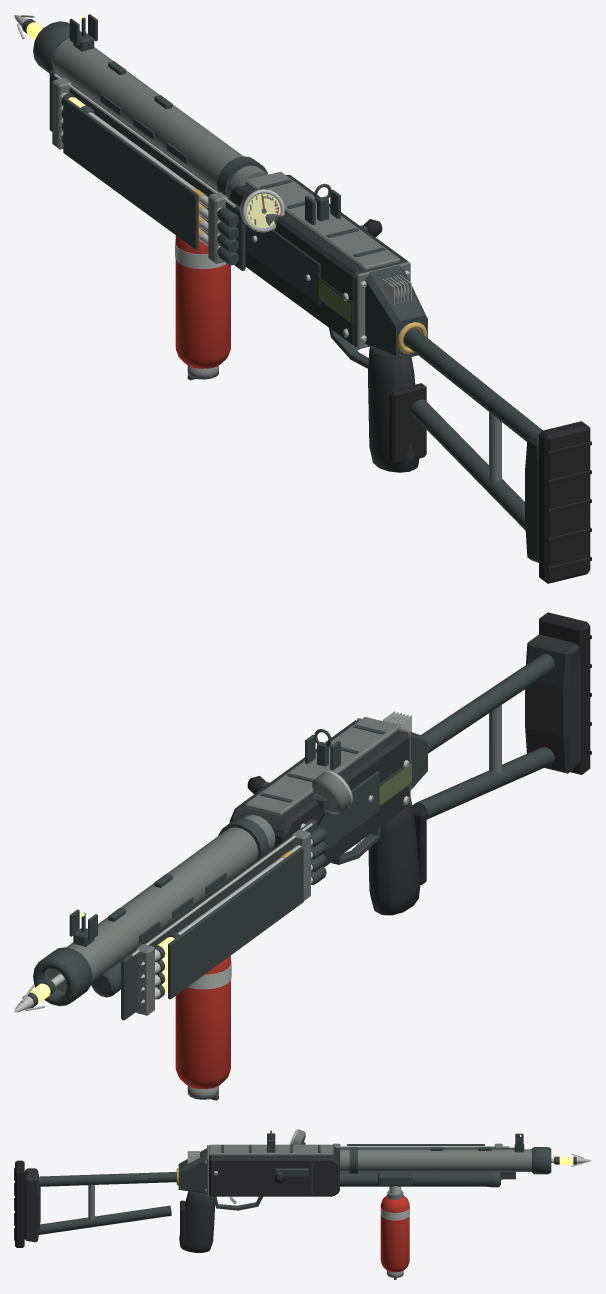
The model's file is vm_arpon.glb.
The picture shows the model from 3 angles, top to bottom: view 1: azimuth 30°, elevation 25°; view 2: azimuth 150°, elevation 25°; view 3: azimuth 270°, elevation 25°; orthographic projection. The views are drawn at different scales.
Visible parts, largest first — view 1: arpon__wk_steel_blued, arpon__wk_steel_park, arpon__wk_polymer, arpon__wk_rubber, clip__wk_steel_blued, arpon__wk_shell_red, arpon__wk_steel_bare, gauge__wk_glass, gauge__wk_emit; view 2: arpon__wk_steel_blued, arpon__wk_polymer, arpon__wk_steel_park, clip__wk_steel_blued, arpon__wk_shell_red, arpon__wk_rubber, arpon__wk_steel_bare, gauge__wk_steel_park, label_plate, rack_3__wk_steel_bare; view 3: arpon__wk_steel_blued, arpon__wk_polymer, arpon__wk_steel_park, arpon__wk_shell_red, arpon__wk_rubber, arpon__wk_steel_bare, pump__wk_steel_blued, clip__wk_steel_blued.
Boxes of the visible parts, <box> form: arpon__wk_steel_blued: <box>33,14,542,530</box>; arpon__wk_steel_park: <box>52,38,501,481</box>; arpon__wk_polymer: <box>229,175,539,562</box>; arpon__wk_rubber: <box>239,216,591,583</box>; clip__wk_steel_blued: <box>63,97,198,249</box>; arpon__wk_shell_red: <box>175,235,230,368</box>; arpon__wk_steel_bare: <box>54,73,411,350</box>; gauge__wk_glass: <box>246,193,282,229</box>; gauge__wk_emit: <box>247,193,280,227</box>; arpon__wk_steel_blued: <box>33,654,554,1020</box>; arpon__wk_polymer: <box>229,634,580,915</box>; arpon__wk_steel_park: <box>47,704,501,1015</box>; clip__wk_steel_blued: <box>168,847,303,999</box>; arpon__wk_shell_red: <box>175,956,230,1088</box>; arpon__wk_rubber: <box>312,612,591,885</box>; arpon__wk_steel_bare: <box>131,711,411,989</box>; gauge__wk_steel_park: <box>312,772,350,814</box>; label_plate: <box>379,763,411,805</box>; rack_3__wk_steel_bare: <box>141,839,313,965</box>; arpon__wk_steel_blued: <box>38,1130,551,1234</box>; arpon__wk_polymer: <box>24,1146,339,1252</box>; arpon__wk_steel_park: <box>88,1143,531,1220</box>; arpon__wk_shell_red: <box>380,1195,409,1272</box>; arpon__wk_rubber: <box>14,1160,185,1247</box>; arpon__wk_steel_bare: <box>187,1146,509,1220</box>; pump__wk_steel_blued: <box>274,1168,308,1176</box>; clip__wk_steel_blued: <box>347,1144,484,1145</box>.
Size of the model in its own units: 0.105 by 0.2324 by 0.8375.
